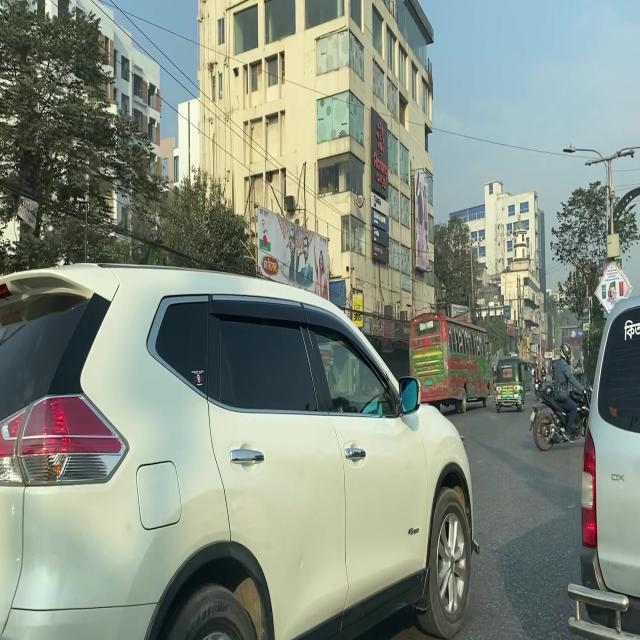car: (0, 259, 481, 640), (566, 286, 640, 640)
motorbike: (529, 375, 611, 453), (532, 359, 544, 403)
